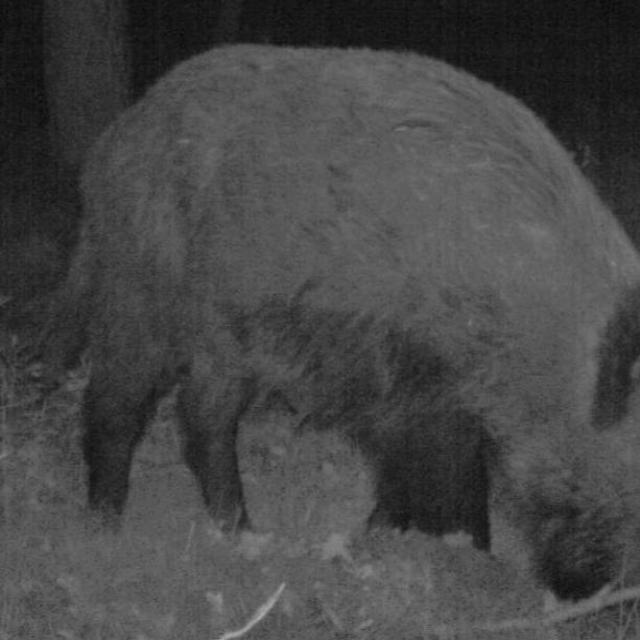pig: (14, 27, 640, 591)
